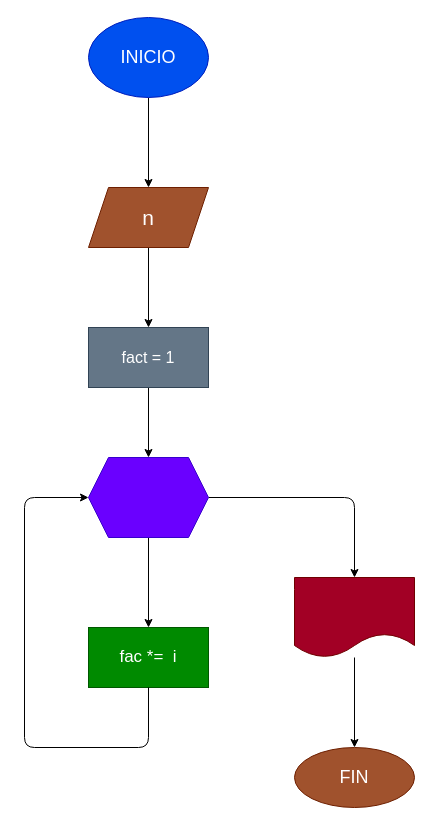
The diagram is 432 pixels wide and 825 high, and some of its shapes have lost their labels. Here are the shapes that lost their labels. From the top down, the centre of each, then its label:
At point 148,497: "i = 2 , n".
At point 354,617: "n , fac".
